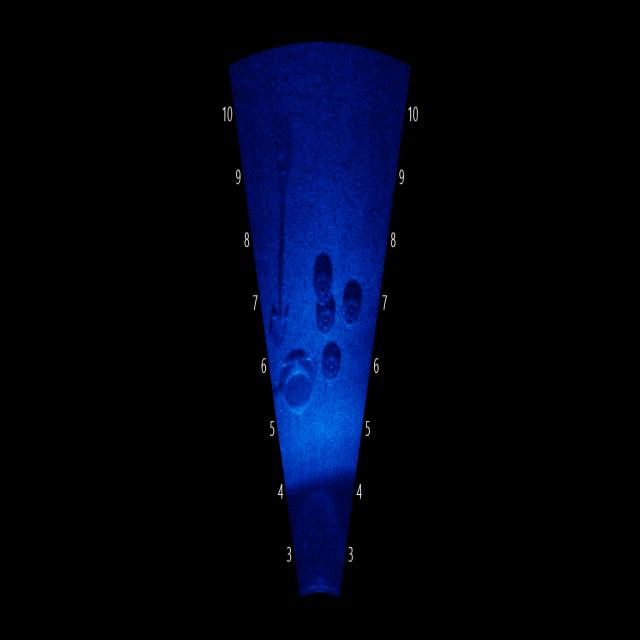circle: (279, 342, 320, 428), (299, 247, 347, 304), (338, 270, 368, 336), (312, 283, 342, 340), (316, 333, 346, 389)
